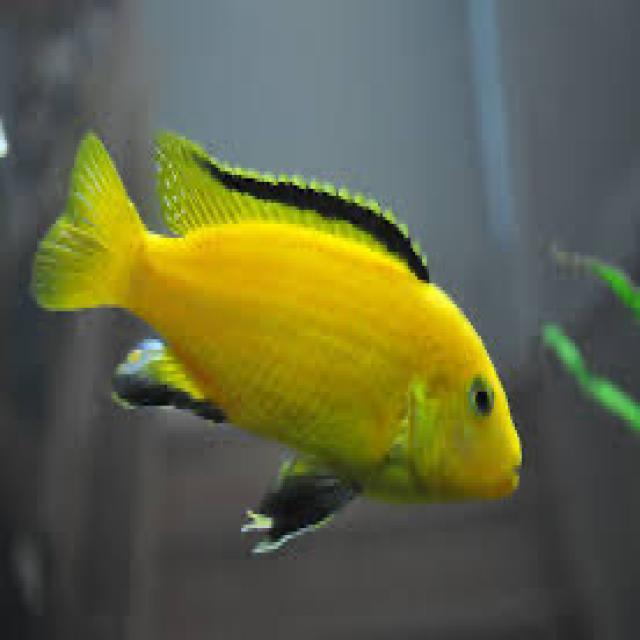YellowCichlid: (28, 77, 568, 568)
